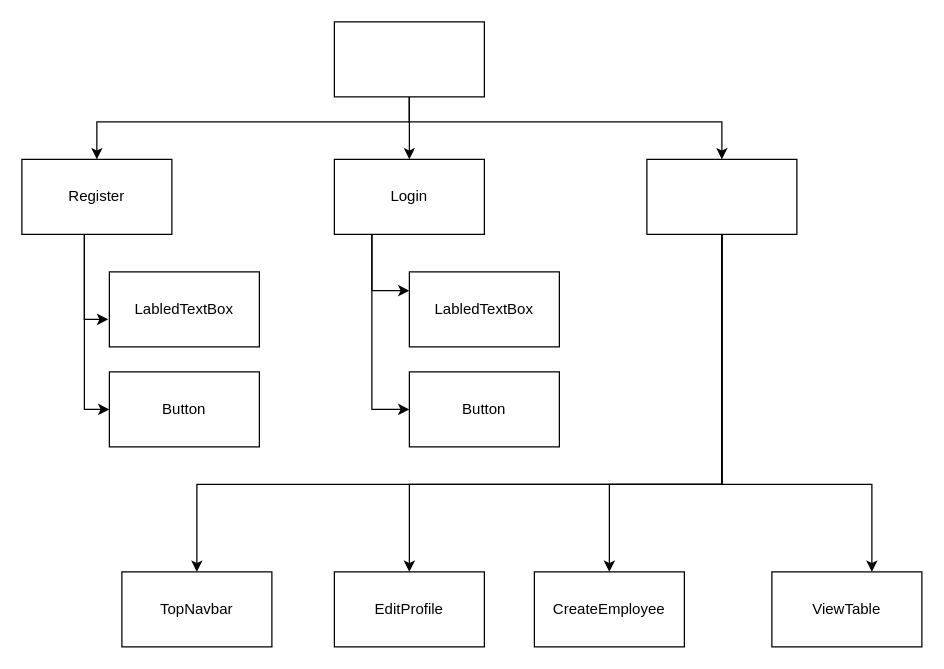
The diagram is 944 pixels wide and 669 high, and some of its shapes have lost their labels. The centre of each missing label's shape, as x and y in pixels:
App: pixel 408 59
Dashboard: pixel 721 196
